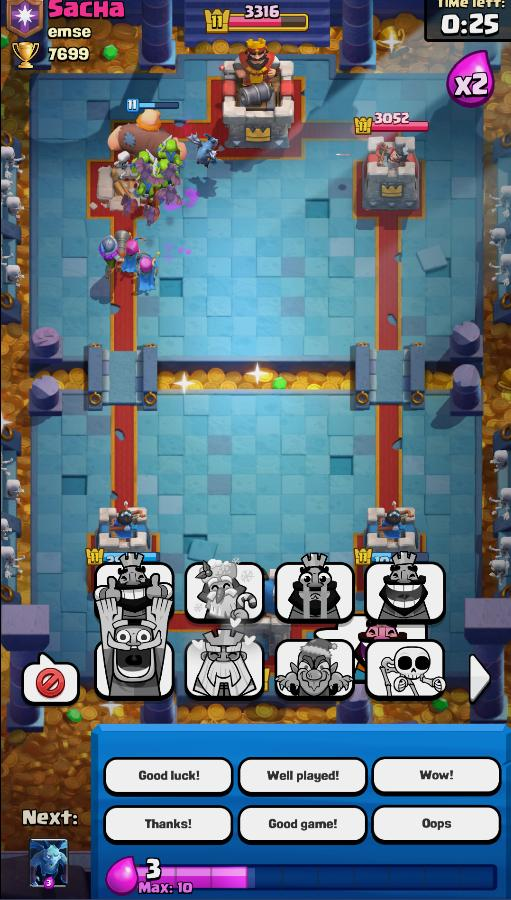archere: (133, 252, 168, 300), (119, 236, 145, 277)
bat: (156, 182, 190, 210), (134, 161, 165, 189), (161, 162, 187, 188), (116, 196, 143, 221), (137, 204, 164, 229)
gargouille: (184, 132, 232, 171)
geant: (101, 114, 193, 174)
gobelin: (149, 134, 192, 169), (130, 143, 157, 177), (131, 169, 160, 200)
mousquetaire: (93, 225, 132, 279)
squelette: (113, 150, 137, 178)
